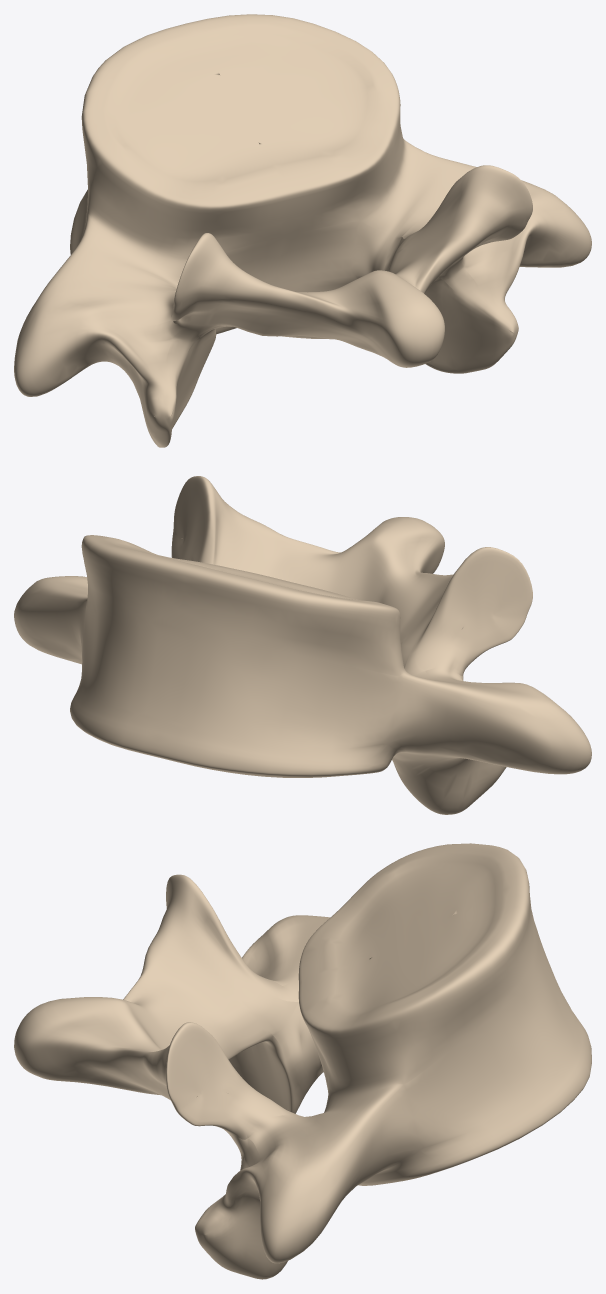
3 views of the same model, one above another, from view 1: azimuth 30°, elevation 25°; view 2: azimuth 150°, elevation 25°; view 3: azimuth 270°, elevation 25° (orthographic). The views are drawn at different scales.
Visible parts, largest first — view 1: L5; view 2: L5; view 3: L5.
Part boxes in pixels (<box>): L5: <box>14,14,591,447</box>; L5: <box>14,476,591,814</box>; L5: <box>14,843,591,1279</box>.
Bounding box in the file's own units: 105 × 52.04 × 86.02.
